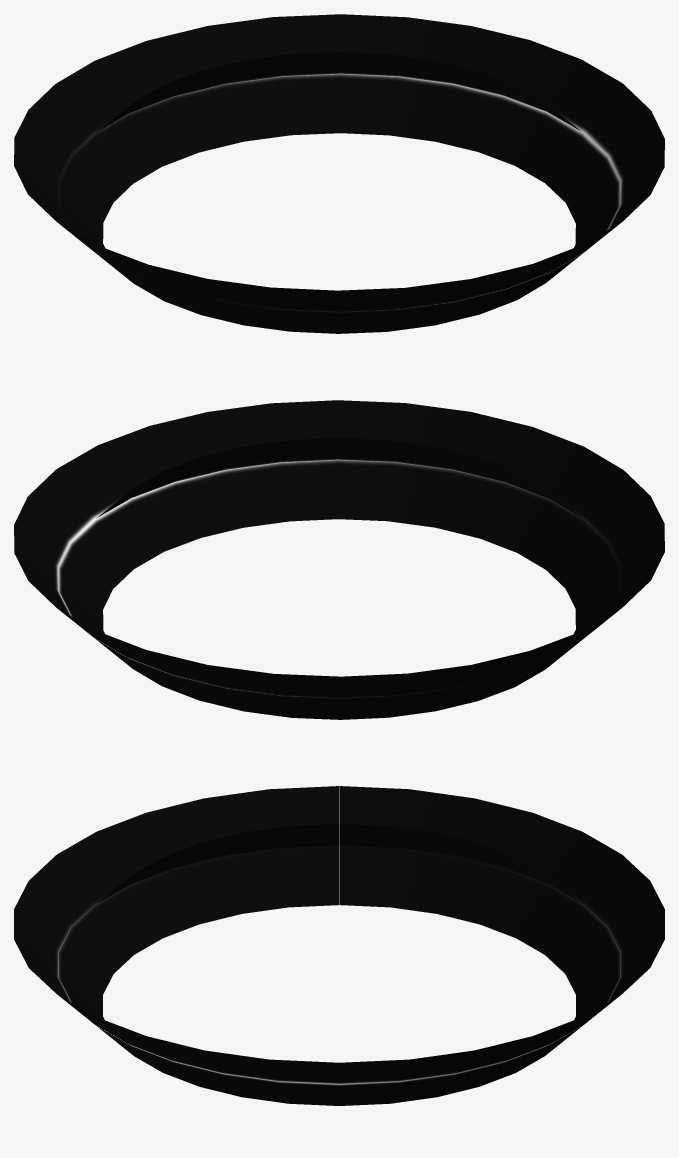
File: shizi_huan_1.FBX
3 renders of one model, top to bottom at view 1: azimuth 30°, elevation 25°; view 2: azimuth 150°, elevation 25°; view 3: azimuth 270°, elevation 25°, orthographic.
Parts seen in each view (by area): view 1: shizi_huan_1; view 2: shizi_huan_1; view 3: shizi_huan_1.
Part boxes in pixels (x1=…): shizi_huan_1: x1=14, y1=14, x2=664, y2=333; shizi_huan_1: x1=14, y1=400, x2=664, y2=719; shizi_huan_1: x1=14, y1=786, x2=664, y2=1105.
Bounding box in the file's own units: 62 × 8.49 × 61.63.
